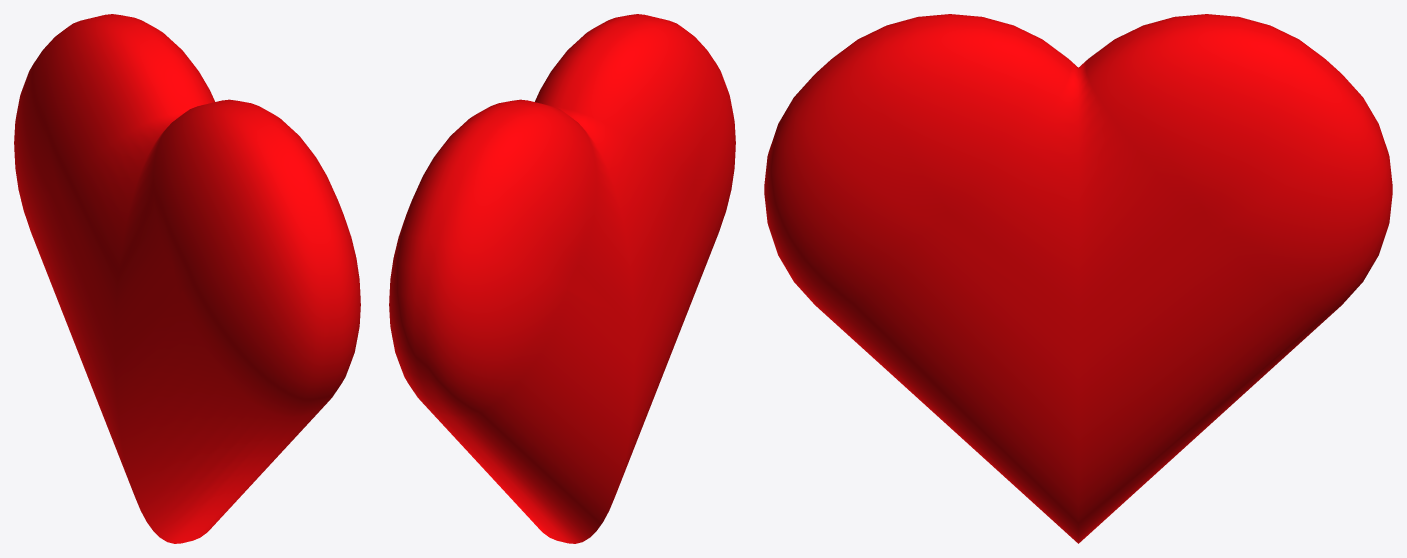
Rendered from myheart.fbx.
3 views of the same model, side by side, from view 1: azimuth 30°, elevation 25°; view 2: azimuth 150°, elevation 25°; view 3: azimuth 270°, elevation 25° (orthographic). The views are drawn at different scales.
Visible parts, largest first — view 1: Cube; view 2: Cube; view 3: Cube.
Boxes of the visible parts, x1,y1,x2,y2 form: Cube: [14, 14, 360, 543]; Cube: [389, 14, 735, 543]; Cube: [764, 14, 1392, 543].
Bounding box in the file's own units: 100 × 315 × 346.
